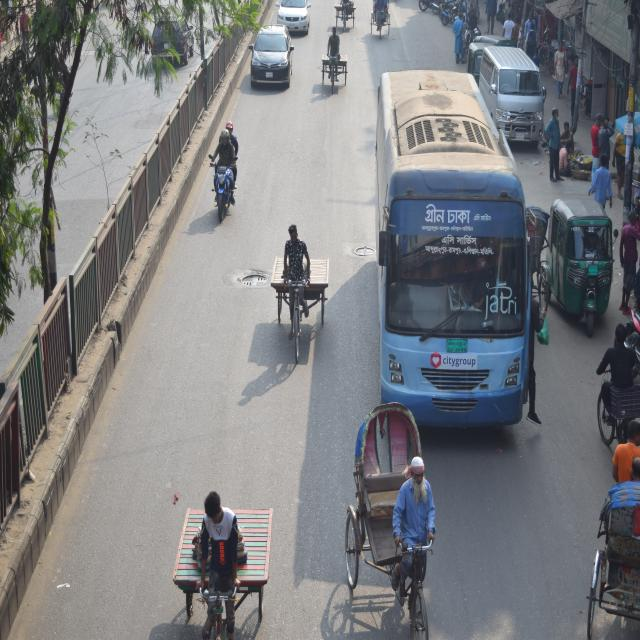bus: (370, 59, 538, 414)
car: (253, 16, 295, 91)
microbus: (474, 44, 551, 150)
motorbike: (207, 117, 240, 226)
